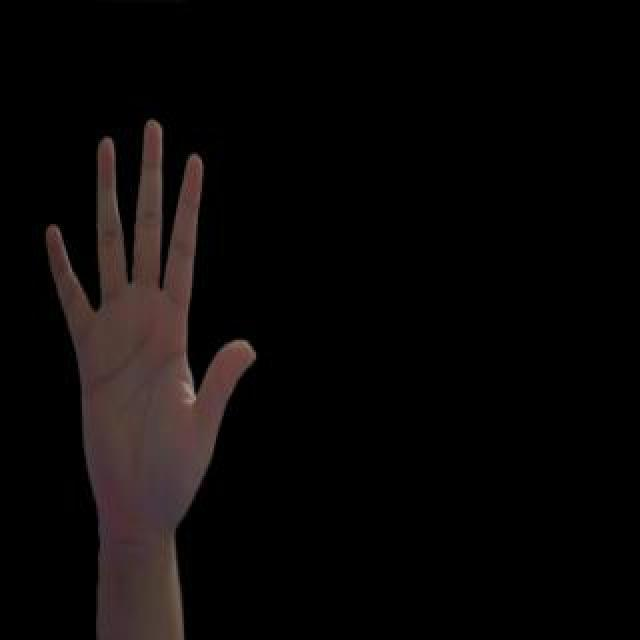hand: (40, 114, 260, 550)
